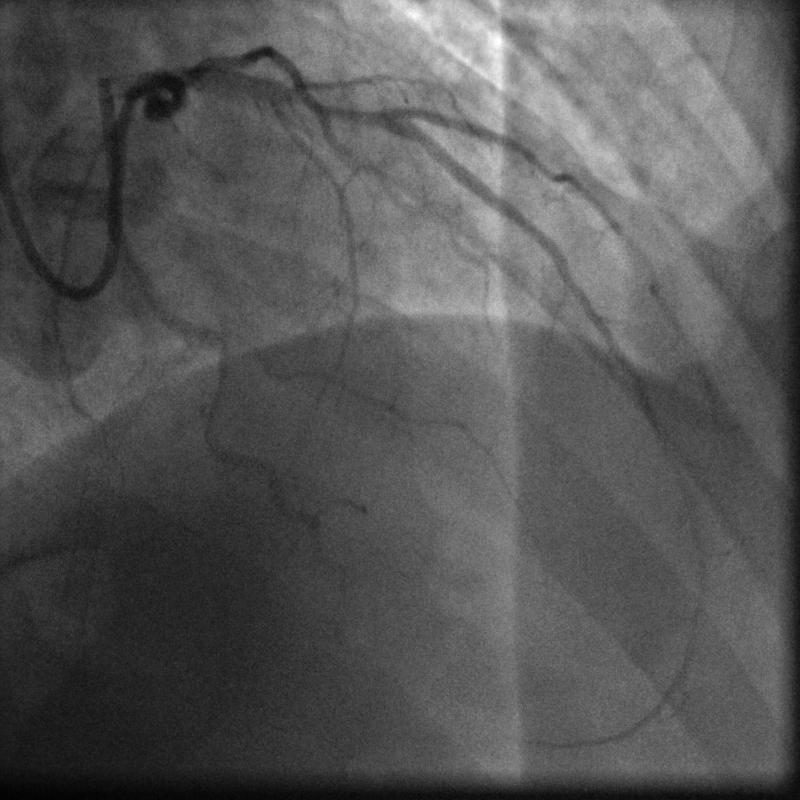Stenosis: (278, 89, 362, 128)
